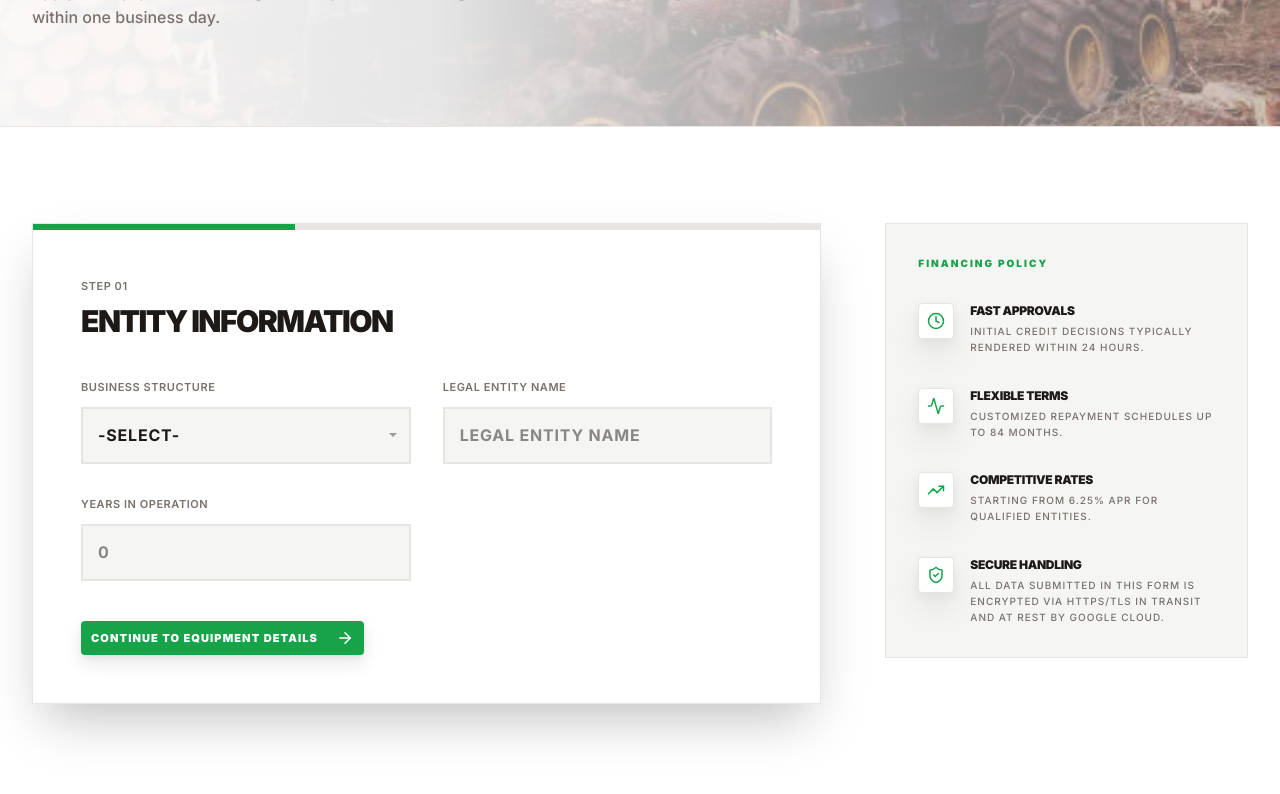
Financing component › submits and shows the success state after consent is accepted
(page scrolled)
What coordinates should you click on to do the following:
click the button "Continue to Equipment Details"
I would click on:
 (223, 638)
Its box is [81,621,364,655].
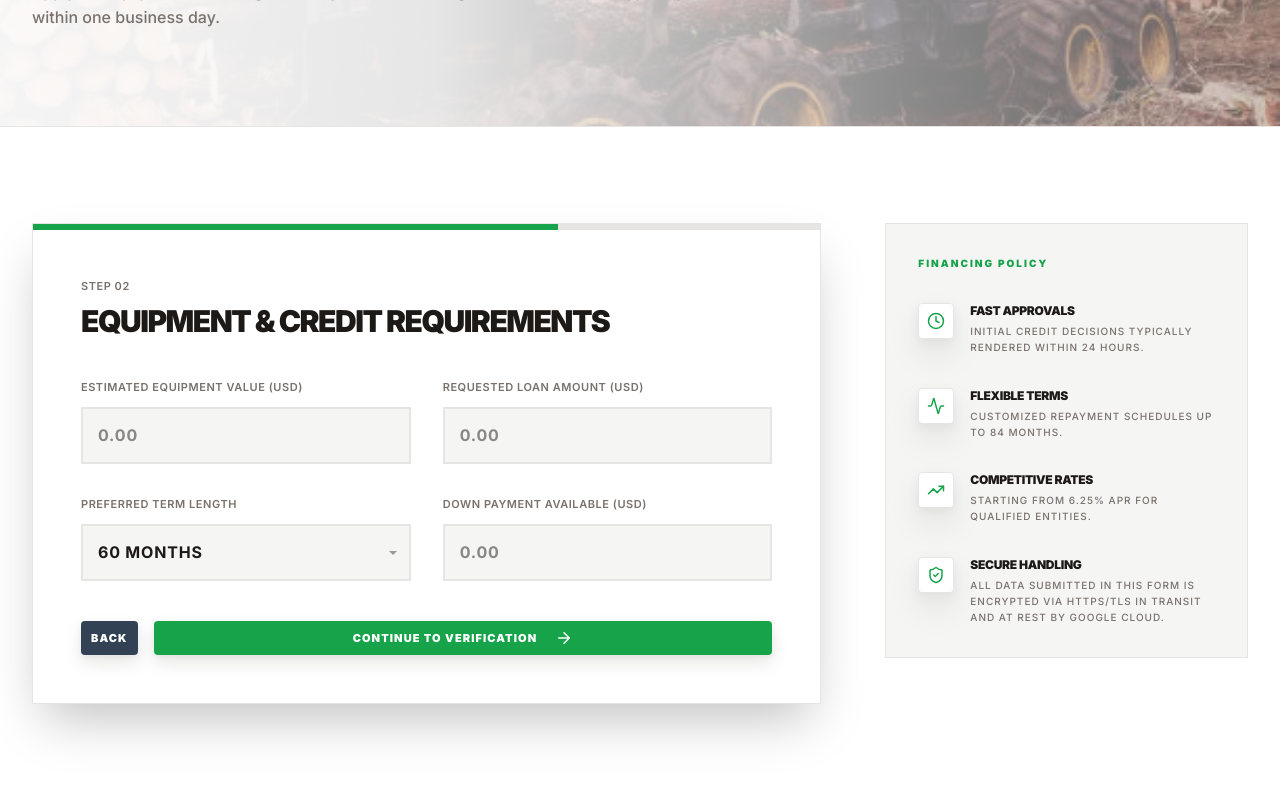
Expected: the heading "Equipment & Credit Requirements" is shown, [81,302,609,338]
What coordinates should you click on to do the following:
click the button "Continue to Verification"
I would click on:
 (463, 638)
Its box is [154,621,772,655].
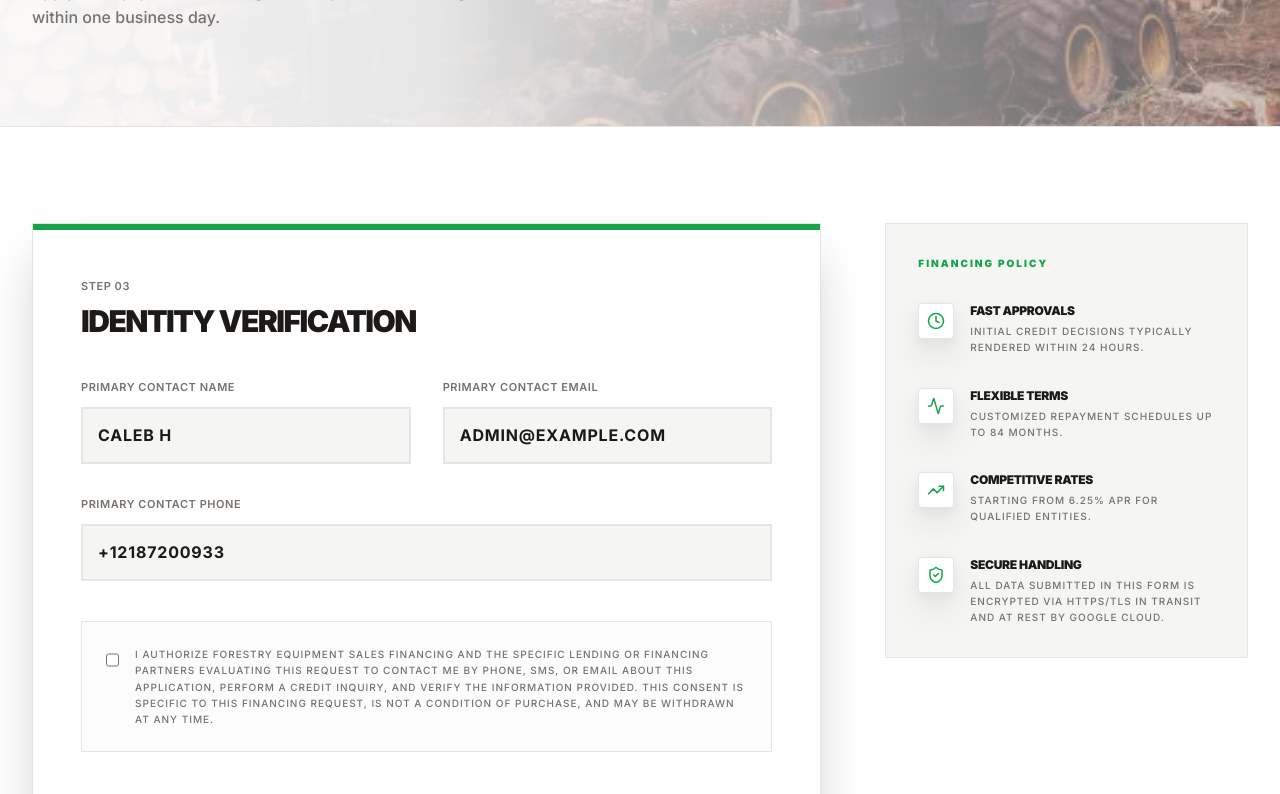
Expected: the heading "Identity Verification" is shown, [81,302,416,338]
What coordinates should you click on to do the following:
click the checkbox labelled "I authorize Forestry Equipment Sales Financing"
I would click on:
 (112, 660)
Its box is [106,650,119,670].
(page scrolled)
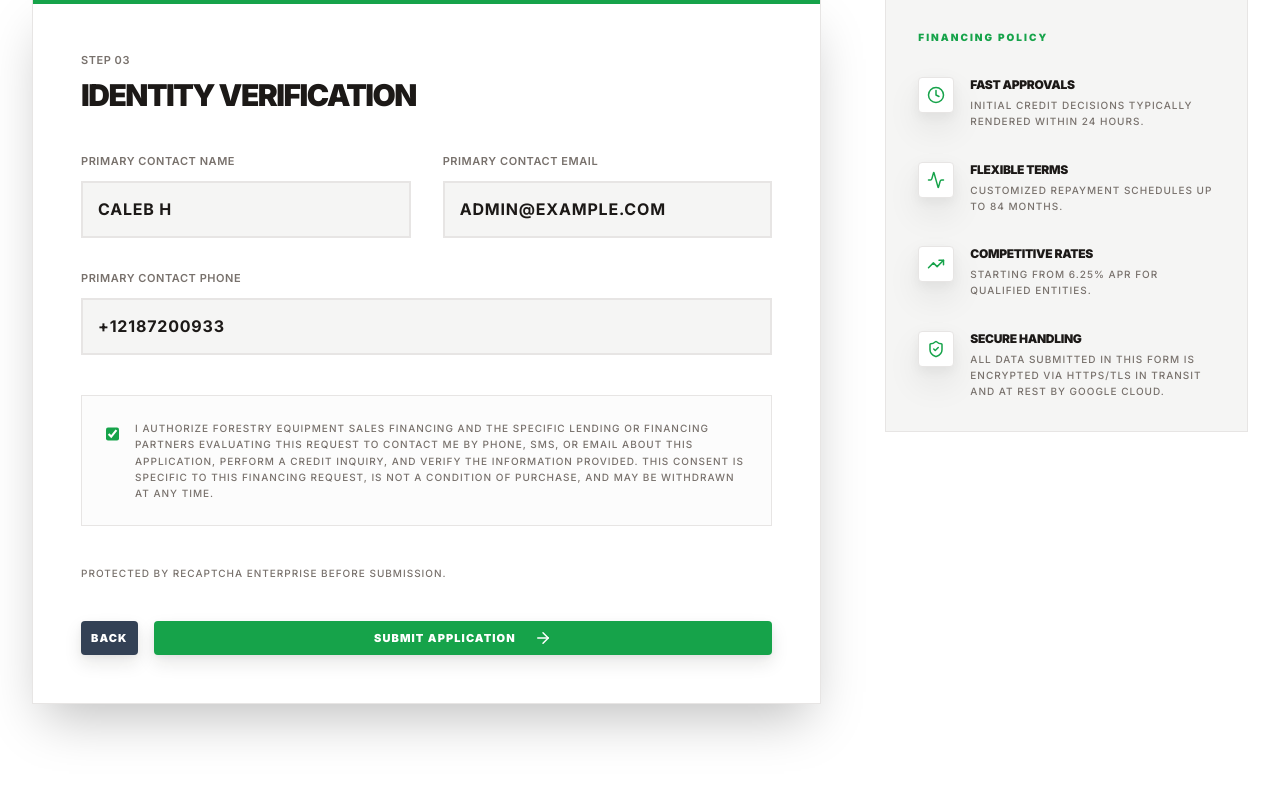
What coordinates should you click on to do the following:
click the button "Submit Application"
I would click on:
 (463, 638)
Its box is [154,621,772,655].
(page scrolled)
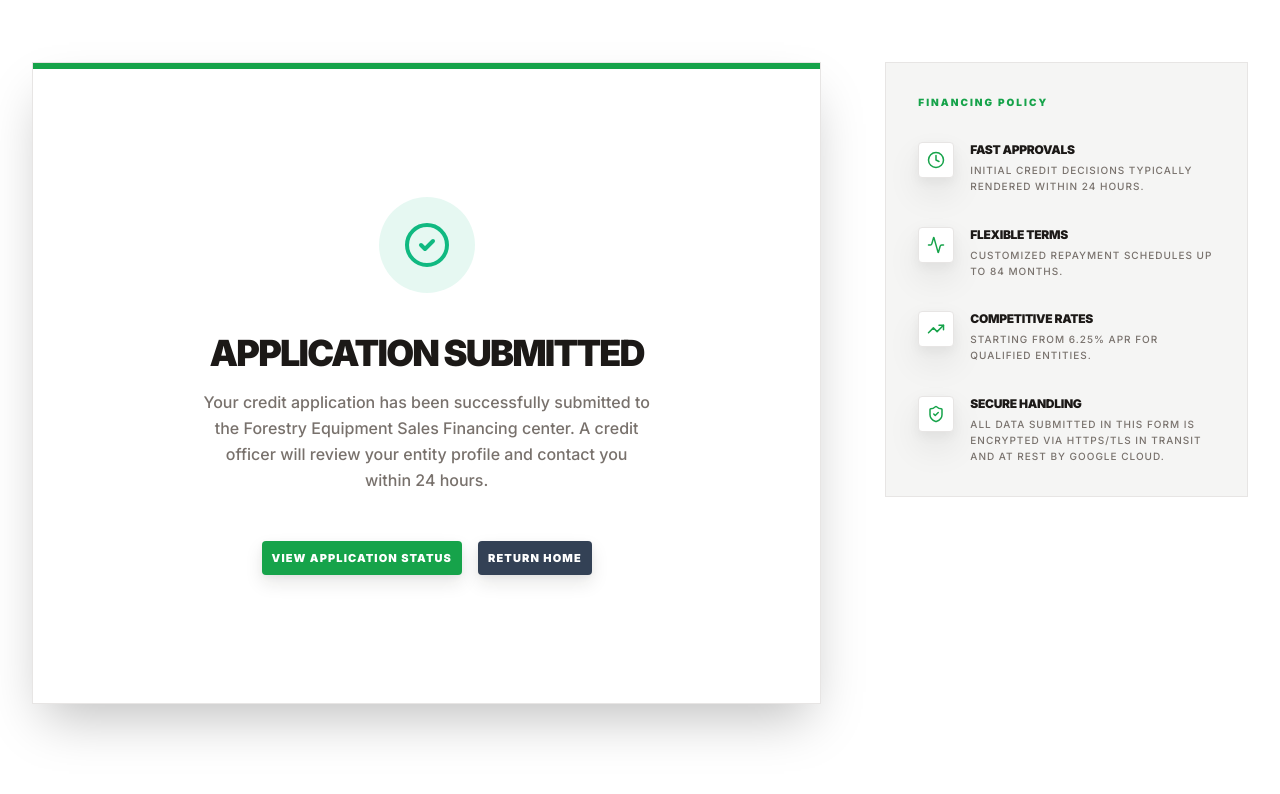
Expected: the heading "Application Submitted" is shown, [210,333,644,373]
